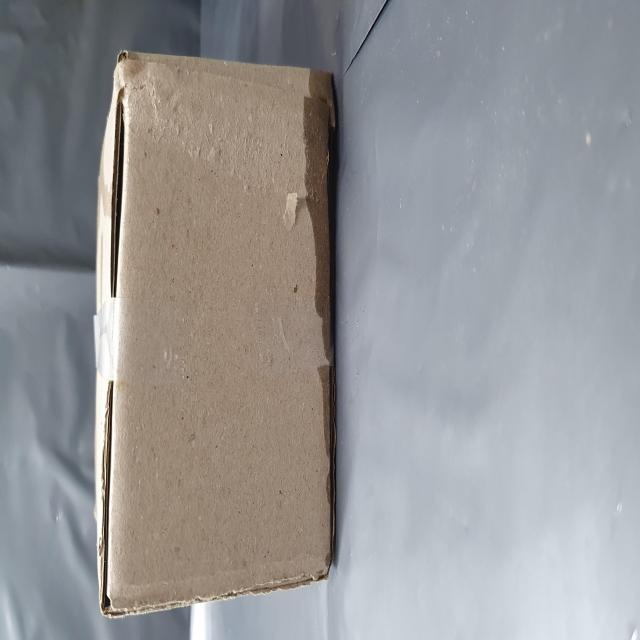wet: (101, 530, 322, 614)
